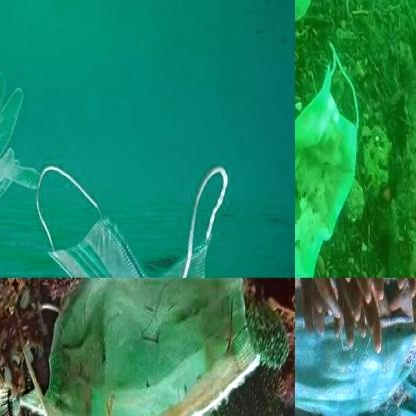Mask: (18, 278, 262, 415), (35, 126, 233, 277), (295, 40, 360, 276), (295, 294, 415, 414)
